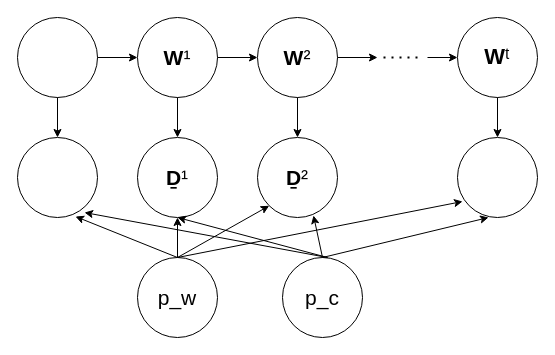
The diagram is 555 pixels wide and 355 high, and some of its shapes have lost their labels. Each missing label, with the centre of its shape:
"Ḏ ᵗ" belongs at point (497, 177).
"Ḏ ⁰" belongs at point (57, 177).
"W ⁰" belongs at point (57, 57).
